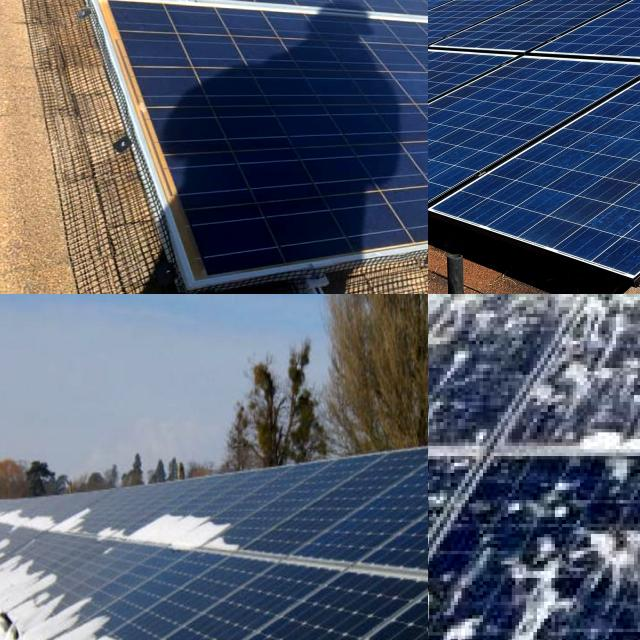bird: (428, 294, 566, 394), (568, 362, 640, 458), (428, 523, 479, 640), (576, 516, 640, 583), (428, 514, 462, 581), (605, 294, 640, 328)
crack: (87, 0, 428, 294), (19, 0, 428, 97), (0, 0, 425, 82), (0, 0, 319, 64), (0, 0, 275, 58)
panel: (148, 504, 250, 588), (0, 572, 85, 640), (19, 553, 80, 640), (33, 500, 92, 546), (91, 516, 140, 566), (0, 499, 42, 542), (0, 521, 34, 567), (81, 608, 126, 640)
